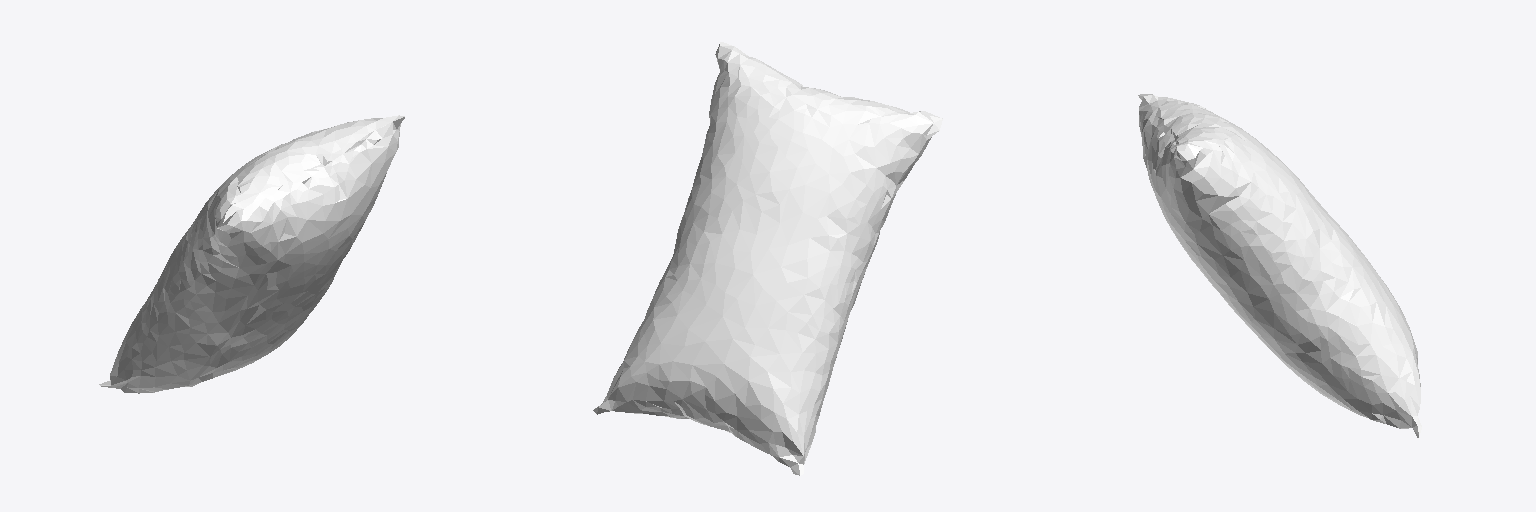
The model's file is pillow_2k.obj.
3 views of the same model, side by side, from view 1: azimuth 30°, elevation 25°; view 2: azimuth 150°, elevation 25°; view 3: azimuth 270°, elevation 25° (orthographic).
Size of the model in its own units: 3.1 by 4.3 by 3.63.